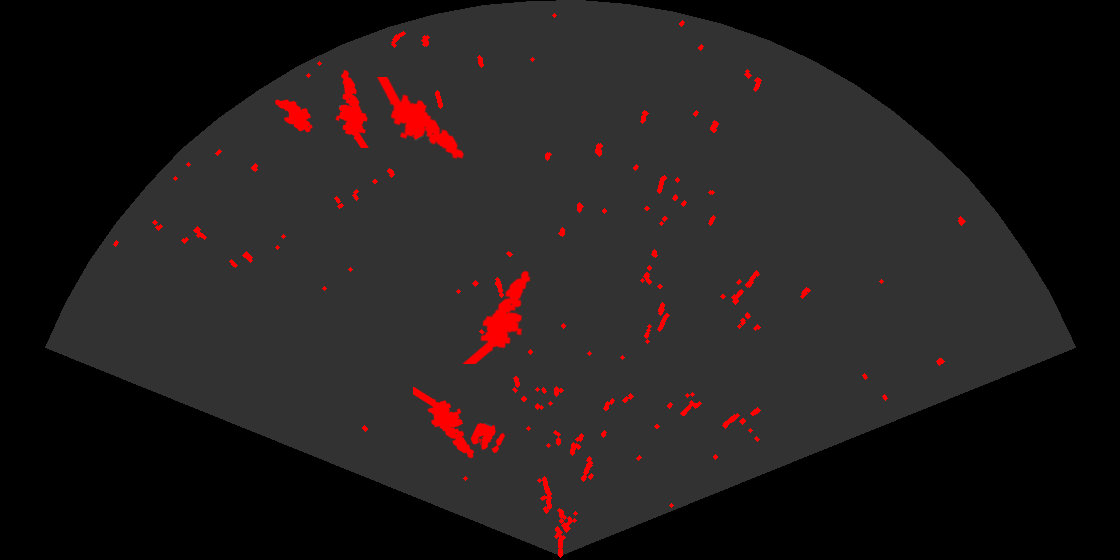AUV: (273, 98, 314, 134)
ball: (469, 421, 507, 455)
frogman: (375, 77, 466, 161), (461, 269, 532, 364), (413, 387, 476, 460), (334, 68, 370, 148)
